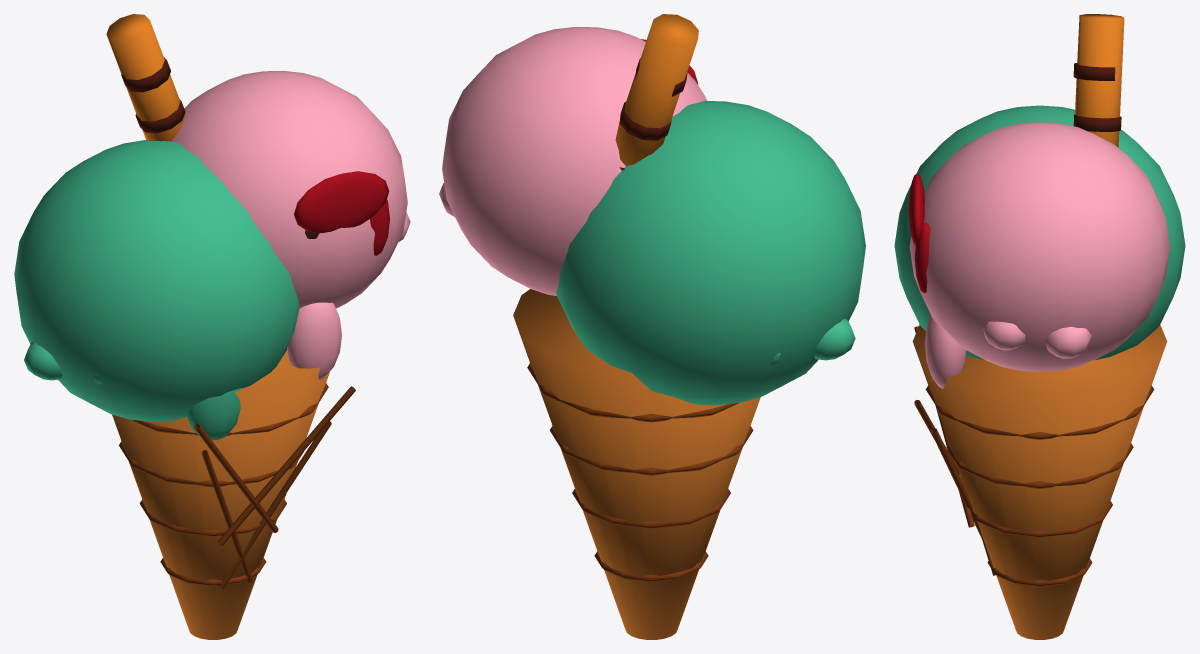
File: icecream.glb
The picture shows the model from 3 angles, left to right: view 1: azimuth 30°, elevation 25°; view 2: azimuth 150°, elevation 25°; view 3: azimuth 270°, elevation 25°; orthographic projection. The views are drawn at different scales.
Visible parts, largest first — view 1: icecream; view 2: icecream; view 3: icecream.
Boxes of the visible parts, x1,y1,x2,y2 form: icecream: (14, 14, 410, 639); icecream: (439, 14, 865, 639); icecream: (894, 14, 1185, 639).
Bounding box in the file's own units: 0.6377 × 1 × 0.4443.
1 material, 1 textured.
